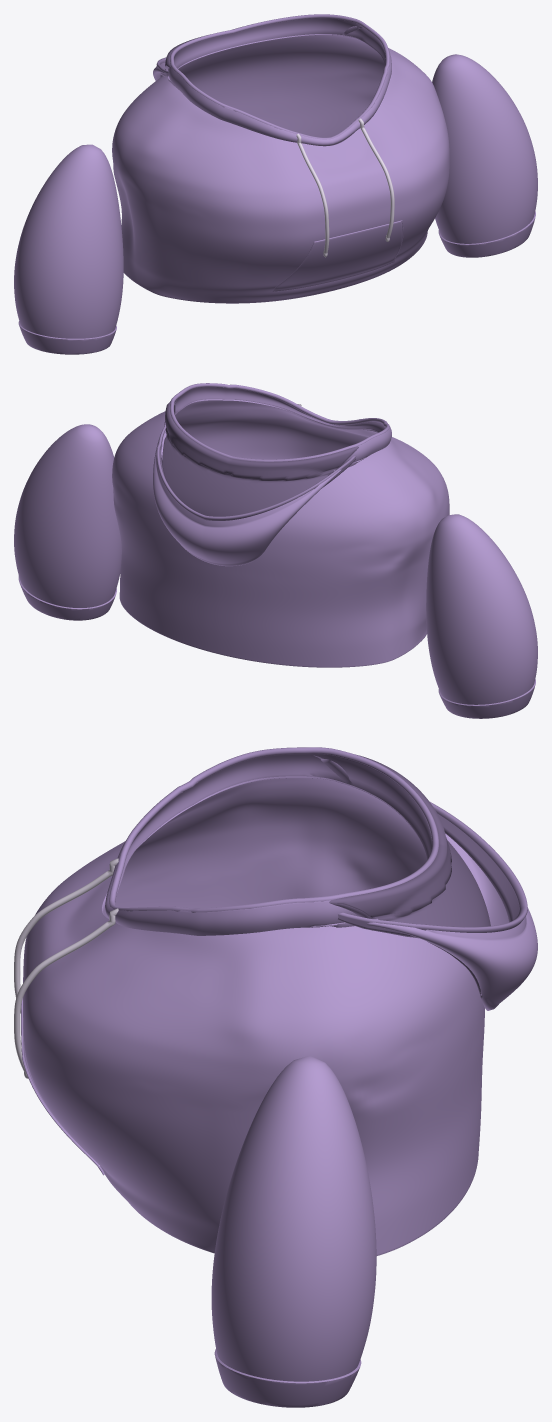
File: Feminine-sweatshirt-top.glb
3 views of the same model, one above another, from view 1: azimuth 30°, elevation 25°; view 2: azimuth 150°, elevation 25°; view 3: azimuth 270°, elevation 25° (orthographic). The views are drawn at different scales.
Parts seen in each view (by area): view 1: Clothing / tailored203, Sleeve / full fabric wrap201 -1, Sleeve / full fabric wrap201 1, Hoodie / attached opening204, Hoodie / seated pouch202, Hoodie / rolled opening204 export, Sleeve / shaped cuff202 -1, Sleeve / shaped cuff202 1, Hoodie / front seated cord205 1 export, Hoodie / front seated cord205 -1 export, Hoodie / shallow resting pouch206; view 2: Clothing / tailored203, Sleeve / full fabric wrap201 -1, Hoodie / shallow resting pouch206, Sleeve / full fabric wrap201 1, Hoodie / attached opening204, Hoodie / rolled opening204 export, Sleeve / shaped cuff202 -1, Sleeve / shaped cuff202 1; view 3: Clothing / tailored203, Sleeve / full fabric wrap201 1, Hoodie / shallow resting pouch206, Hoodie / attached opening204, Hoodie / rolled opening204 export, Sleeve / shaped cuff202 1, Hoodie / front seated cord205 1 export, Hoodie / front seated cord205 -1 export.
Boxes of the visible parts, left/top/right/bottom form: Clothing / tailored203: left=112, top=34, right=449, bottom=303; Sleeve / full fabric wrap201 -1: left=14, top=144, right=123, bottom=338; Sleeve / full fabric wrap201 1: left=432, top=54, right=537, bottom=243; Hoodie / attached opening204: left=168, top=18, right=391, bottom=146; Hoodie / seated pouch202: left=273, top=220, right=402, bottom=291; Hoodie / rolled opening204 export: left=170, top=14, right=389, bottom=139; Sleeve / shaped cuff202 -1: left=18, top=321, right=116, bottom=354; Sleeve / shaped cuff202 1: left=438, top=211, right=535, bottom=257; Hoodie / front seated cord205 1 export: left=358, top=118, right=394, bottom=238; Hoodie / front seated cord205 -1 export: left=296, top=133, right=329, bottom=253; Hoodie / shallow resting pouch206: left=153, top=26, right=361, bottom=80; Clothing / tailored203: left=112, top=399, right=449, bottom=667; Sleeve / full fabric wrap201 -1: left=426, top=514, right=537, bottom=704; Hoodie / shallow resting pouch206: left=153, top=399, right=358, bottom=566; Sleeve / full fabric wrap201 1: left=14, top=424, right=121, bottom=607; Hoodie / attached opening204: left=174, top=387, right=391, bottom=467; Hoodie / rolled opening204 export: left=170, top=383, right=389, bottom=461; Sleeve / shaped cuff202 -1: left=438, top=679, right=535, bottom=718; Sleeve / shaped cuff202 1: left=18, top=576, right=116, bottom=620; Clothing / tailored203: left=23, top=776, right=484, bottom=1255; Sleeve / full fabric wrap201 1: left=211, top=1055, right=376, bottom=1381; Hoodie / shallow resting pouch206: left=312, top=755, right=537, bottom=1010; Hoodie / attached opening204: left=105, top=753, right=432, bottom=935; Hoodie / rolled opening204 export: left=109, top=747, right=438, bottom=912; Sleeve / shaped cuff202 1: left=214, top=1349, right=361, bottom=1407; Hoodie / front seated cord205 1 export: left=14, top=908, right=118, bottom=1071; Hoodie / front seated cord205 -1 export: left=14, top=858, right=118, bottom=1013.
Bounding box in the file's own units: 1.06 × 0.4801 × 0.5683.
